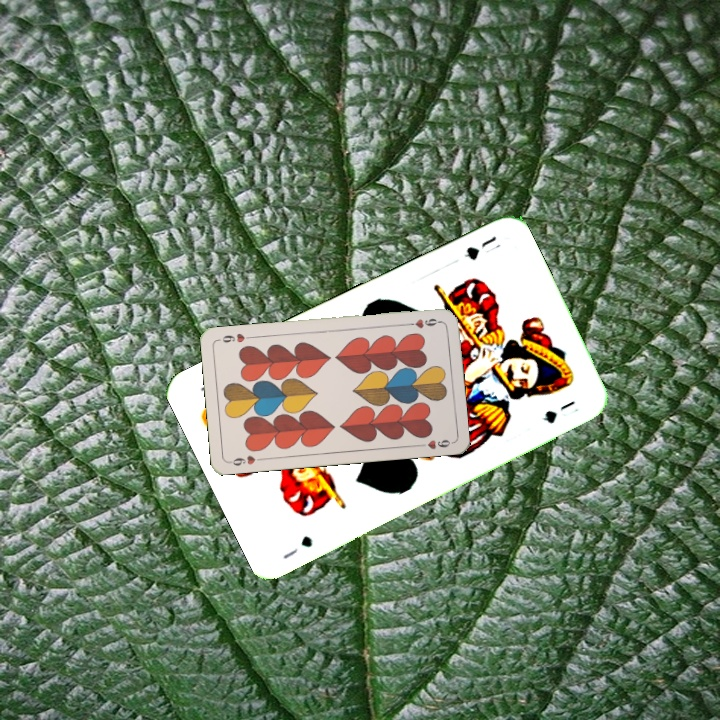GU: (459, 232, 499, 263), (279, 531, 315, 562)
H9: (225, 451, 266, 468), (402, 314, 443, 331)
